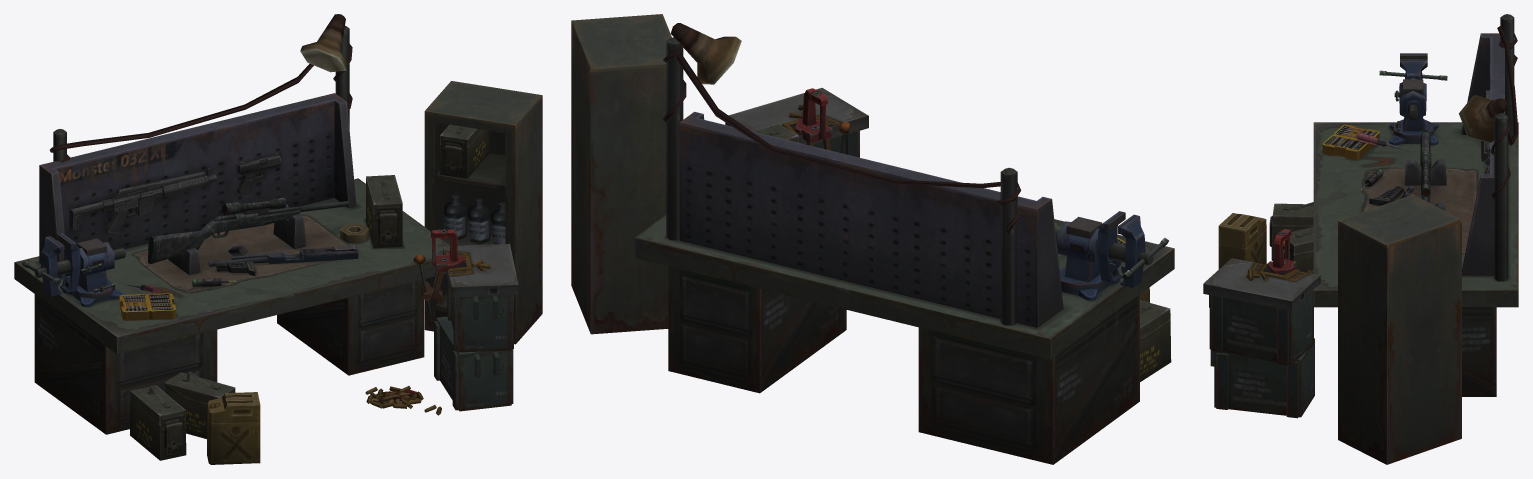
The model's file is GunsmithBench.FBX.
The picture shows the model from 3 angles, left to right: view 1: azimuth 30°, elevation 25°; view 2: azimuth 150°, elevation 25°; view 3: azimuth 270°, elevation 25°; orthographic projection. The views are drawn at different scales.
Visible parts, largest first — view 1: GunsmithBench; view 2: GunsmithBench; view 3: GunsmithBench.
Part boxes in pixels (left/top/right/bottom): GunsmithBench: left=14, top=14, right=542, bottom=464; GunsmithBench: left=571, top=14, right=1174, bottom=464; GunsmithBench: left=1203, top=14, right=1518, bottom=464.
Bounding box in the file's own units: 3.32 × 1.9 × 1.84.
Materials: 1 (1 with a texture image).
